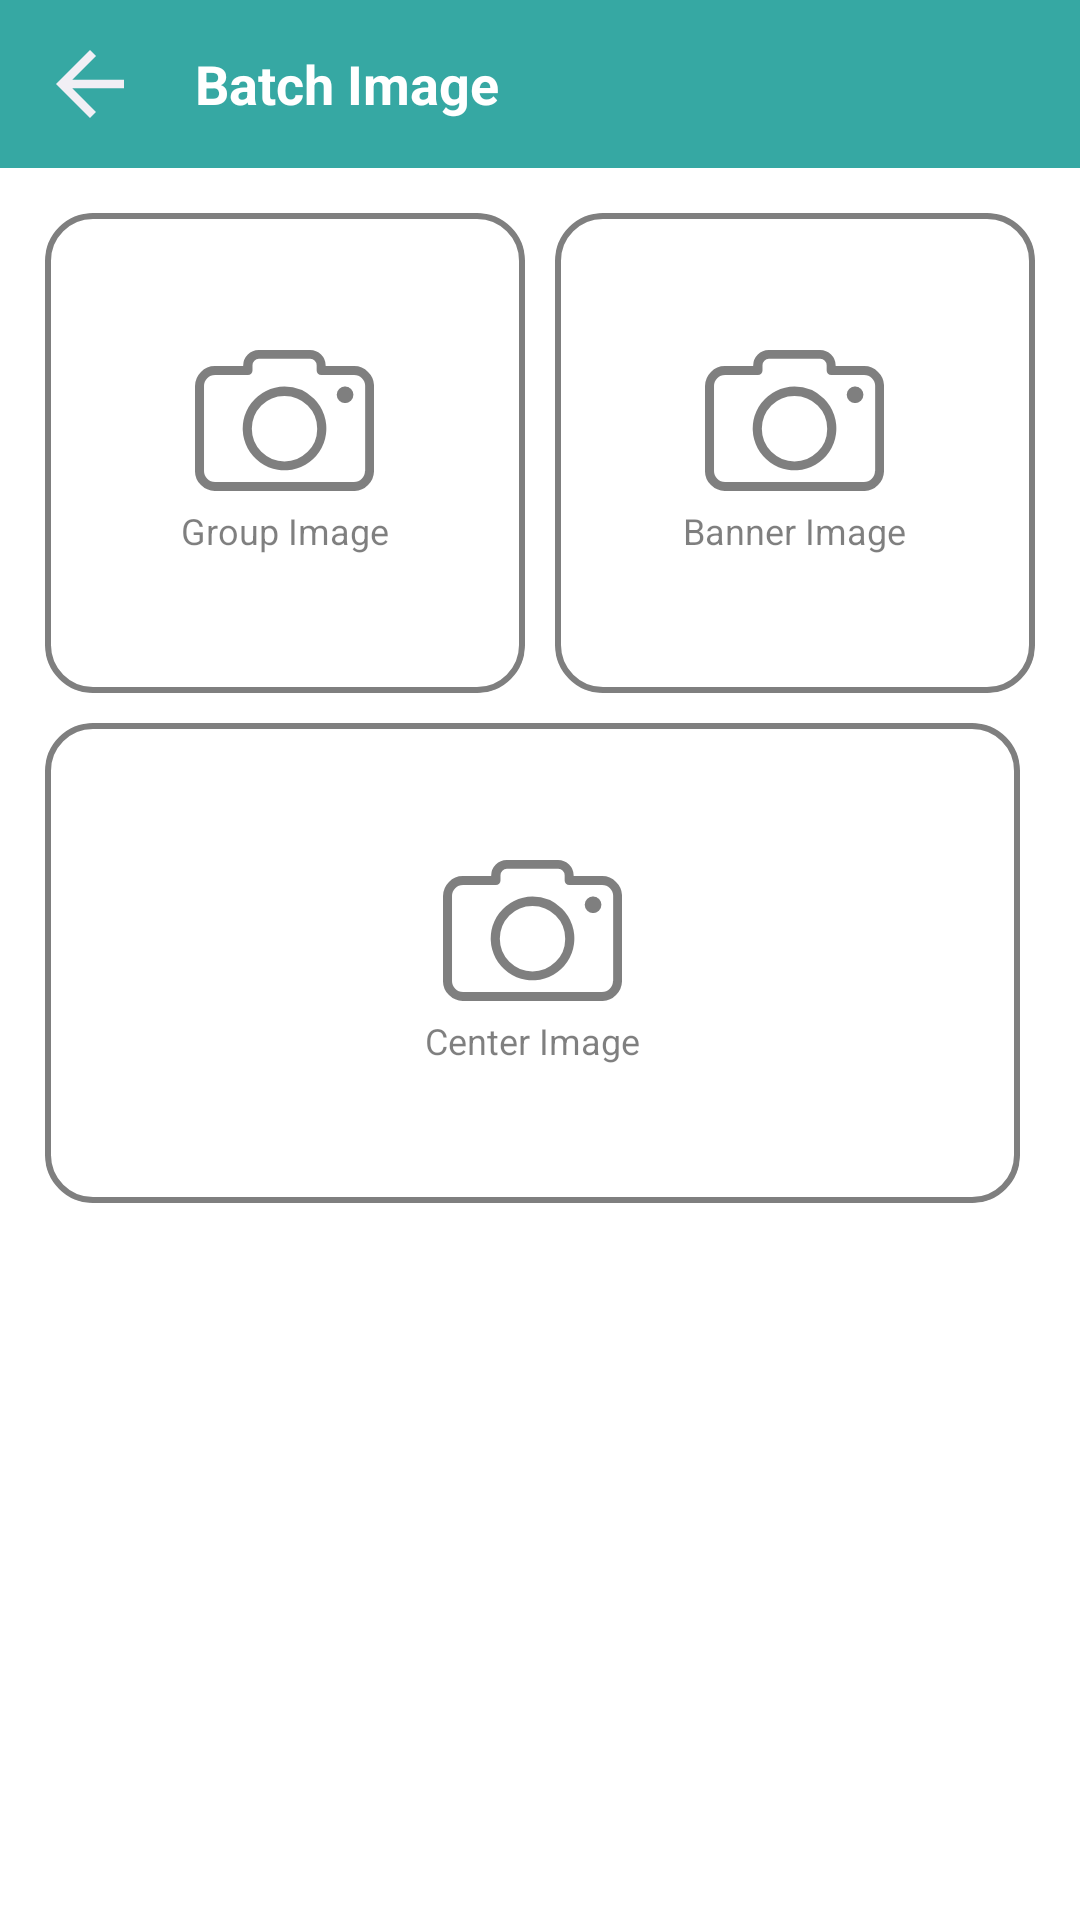

Screen size 1080 x 1920. Icon name, then its box in pixels as {"x1": x1, "y1": y1, "x2": x2, "y2": y2}:
arrow back: {"x1": 56, "y1": 50, "x2": 124, "y2": 118}
camera: {"x1": 195, "y1": 350, "x2": 374, "y2": 491}, {"x1": 705, "y1": 350, "x2": 884, "y2": 491}, {"x1": 443, "y1": 860, "x2": 622, "y2": 1001}
